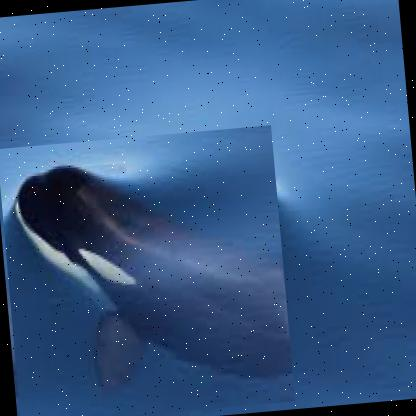killer_whale: (0, 125, 295, 415)
